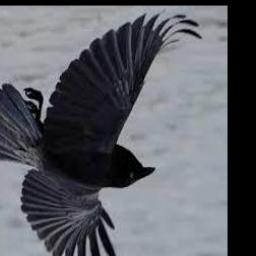Crow: (0, 12, 203, 256)
